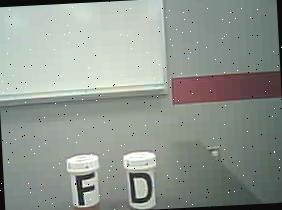Bottle D: (119, 149, 161, 210)
Bottle F: (63, 152, 106, 210)
